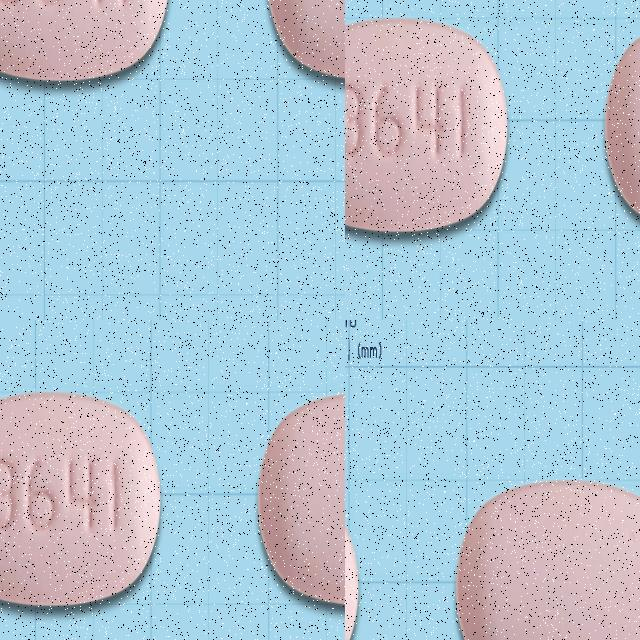Evotaz: (455, 481, 640, 640)
Proxacinby Tab: (455, 0, 601, 141), (345, 0, 431, 141)
Tamiflu Cap: (13, 379, 144, 618), (303, 376, 345, 617)
